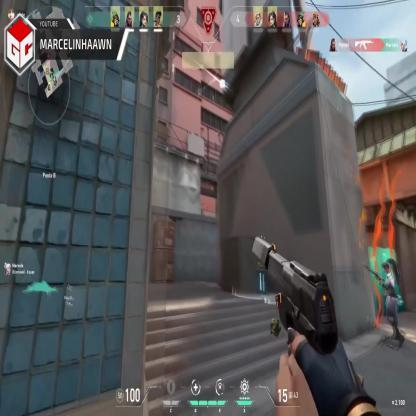enemy: (200, 202, 204, 218)
enemy_head: (201, 203, 203, 207)
